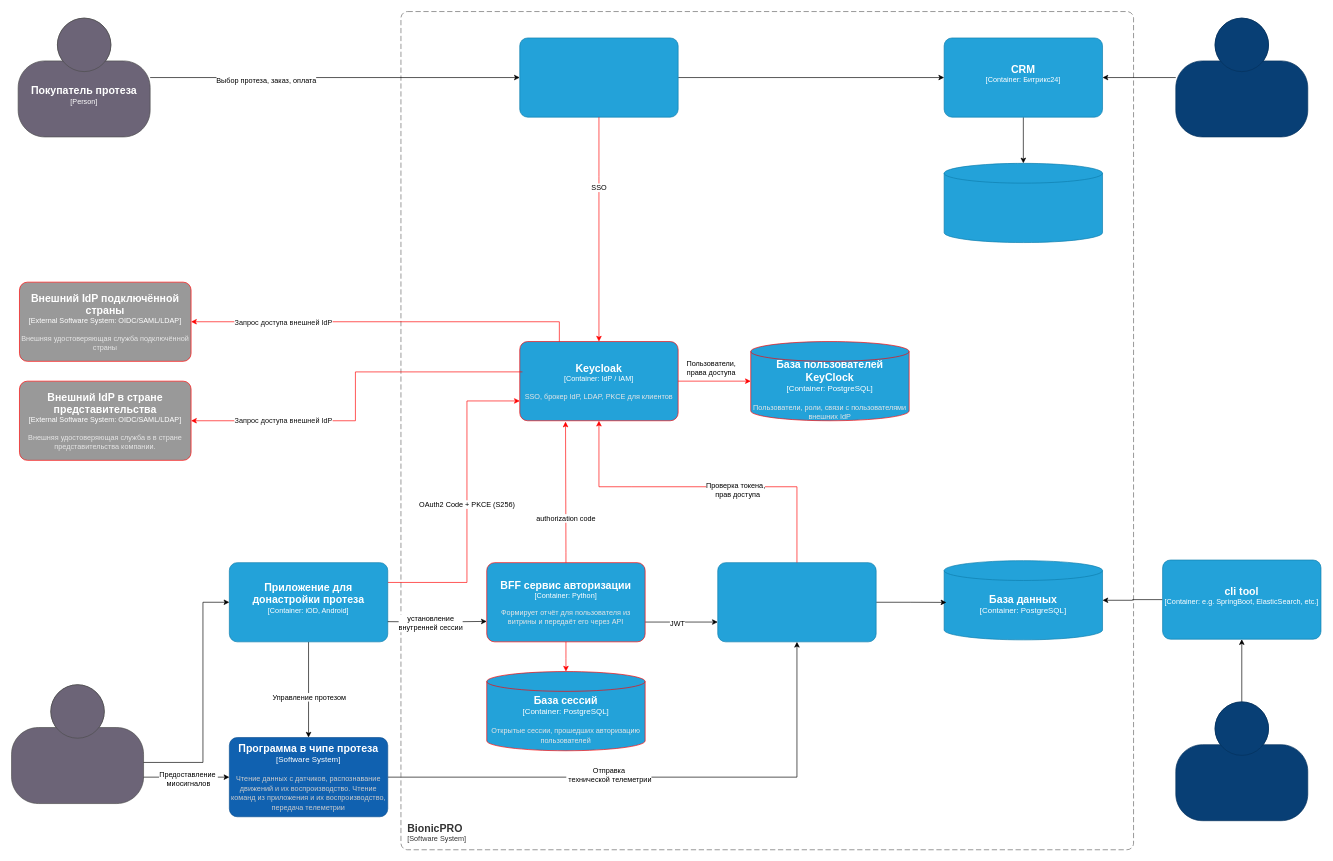
This 1333x861 diagram has some shape labels left out. Here are the shapes that lost their labels. From the top down, the centre of each, then its label:
At [598,77]: "Интернет-магазин [Container: Битрикс24]".
At [1241,77]: "Оператор производства [Person]".
At [1023,203]: "CRM DB [Container: e.g. Oracle Database 12]".
At [796,602]: "API [Container: e.g. SpringBoot, ElasticSearch, etc.]".
At [77,744]: "Пилот протеза [Person] С этого человека считываются данные".
At [1241,761]: "ML-инженер [Person]".
